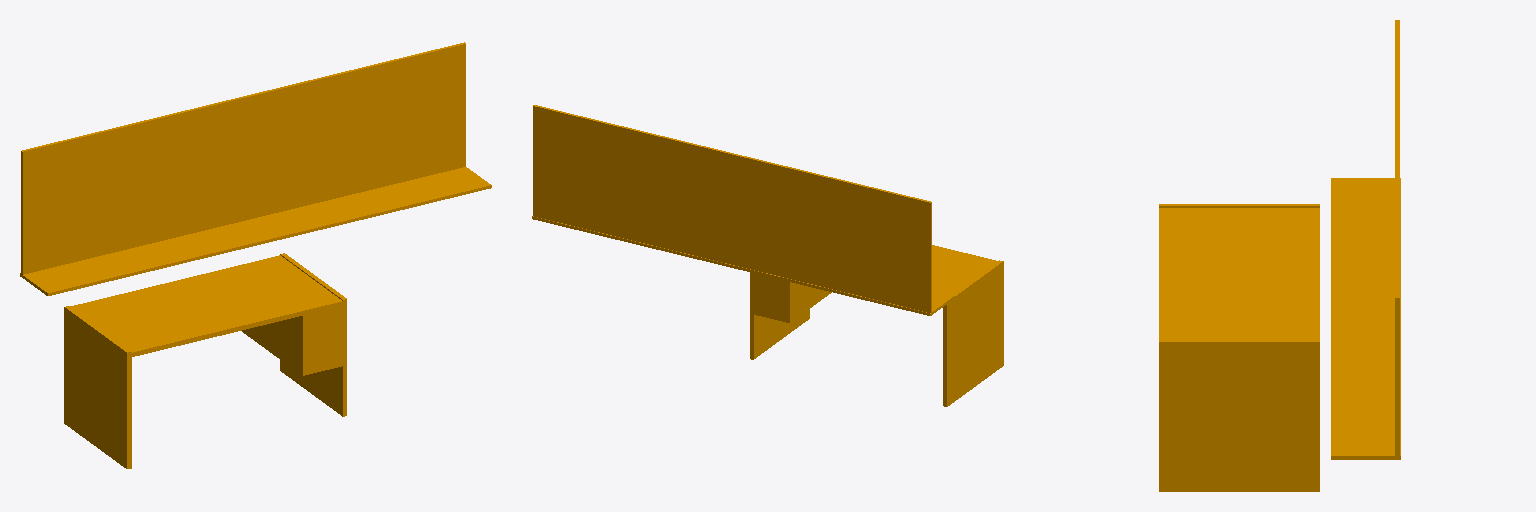
robot.urdf — ur5e:
<?xml version="1.0" ?>
<!-- =================================================================================== -->
<!-- |    This document was autogenerated by xacro from ur5e.xacro                     | -->
<!-- |    EDITING THIS FILE BY HAND IS NOT RECOMMENDED                                 | -->
<!-- =================================================================================== -->
<robot name="ur5e">
  <gazebo>
    <plugin filename="libgazebo_ros_control.so" name="ros_control">
      <!--robotNamespace>/</robotNamespace-->
      <!--robotSimType>gazebo_ros_control/DefaultRobotHWSim</robotSimType-->
    </plugin>
    <!--
    <plugin name="gazebo_ros_power_monitor_controller" filename="libgazebo_ros_power_monitor.so">
      <alwaysOn>true</alwaysOn>
      <updateRate>1.0</updateRate>
      <timeout>5</timeout>
      <powerStateTopic>power_state</powerStateTopic>
      <powerStateRate>10.0</powerStateRate>
      <fullChargeCapacity>87.78</fullChargeCapacity>     
      <dischargeRate>-474</dischargeRate>
      <chargeRate>525</chargeRate>
      <dischargeVoltage>15.52</dischargeVoltage>
      <chargeVoltage>16.41</chargeVoltage>
    </plugin>
-->
  </gazebo>
  <!-- Create the link of the hemisphere -->
  <link name="ur5_desk">
    <visual>
      <geometry>
        <mesh filename="./desk/desk.dae"/>
      </geometry>
    </visual>
  </link>
  <!--property name="shoulder_height" value="0.089159" /-->
  <!--property name="shoulder_offset" value="0.13585" /-->
  <!-- shoulder_offset - elbow_offset + wrist_1_length = 0.10915 -->
  <!--property name="upper_arm_length" value="0.42500" /-->
  <!--property name="elbow_offset" value="0.1197" /-->
  <!-- CAD measured -->
  <!--property name="forearm_length" value="0.39225" /-->
  <!--property name="wrist_1_length" value="0.093" /-->
  <!-- CAD measured -->
  <!--property name="wrist_2_length" value="0.09465" /-->
  <!-- In CAD this distance is 0.930, but in the spec it is 0.09465 -->
  <!--property name="wrist_3_length" value="0.0823" /-->
  <!-- manually measured -->
  <link name="ur5_base_link">
    <visual>
      <geometry>
        <mesh filename="./ur5e/meshes/visual/base.dae"/>
      </geometry>
      <material name="LightGrey">
        <color rgba="0.7 0.7 0.7 1.0"/>
      </material>
    </visual>
    <collision>
      <geometry>
        <mesh filename="./ur5e/meshes/collision/base.stl"/>
      </geometry>
    </collision>
    <inertial>
      <mass value="4.0"/>
      <origin rpy="0 0 0" xyz="0.0 0.0 0.0"/>
      <inertia ixx="0.00443333156" ixy="0.0" ixz="0.0" iyy="0.00443333156" iyz="0.0" izz="0.0072"/>
    </inertial>
  </link>
  <joint name="ur5_shoulder_pan_joint" type="revolute">
    <parent link="ur5_base_link"/>
    <child link="ur5_shoulder_link"/>
    <origin rpy="0.0 0.0 3.141592653589793" xyz="0.0 0.0 0.163"/>
    <axis xyz="0 0 1"/>
    <limit effort="150.0" lower="-6.283185307179586" upper="6.283185307179586" velocity="3.14"/>
    <dynamics damping="0.0" friction="0.0"/>
  </joint>
  <link name="ur5_shoulder_link">
    <visual>
      <geometry>
        <mesh filename="./ur5e/meshes/visual/shoulder.dae"/>
      </geometry>
      <material name="LightGrey">
        <color rgba="0.7 0.7 0.7 1.0"/>
      </material>
    </visual>
    <collision>
      <geometry>
        <mesh filename="./ur5e/meshes/collision/shoulder.stl"/>
      </geometry>
    </collision>
    <inertial>
      <mass value="3.7"/>
      <origin rpy="0 0 0" xyz="0.0 0.0 0.0"/>
      <inertia ixx="0.010267495893" ixy="0.0" ixz="0.0" iyy="0.010267495893" iyz="0.0" izz="0.00666"/>
    </inertial>
  </link>
  <joint name="ur5_shoulder_lift_joint" type="revolute">
    <parent link="ur5_shoulder_link"/>
    <child link="ur5_upper_arm_link"/>
    <origin rpy="0.0 1.5707963267948966 0.0" xyz="0.0 0.138 0.0"/>
    <axis xyz="0 1 0"/>
    <limit effort="150.0" lower="-6.283185307179586" upper="6.283185307179586" velocity="3.14"/>
    <dynamics damping="0.0" friction="0.0"/>
  </joint>
  <link name="ur5_upper_arm_link">
    <visual>
      <geometry>
        <mesh filename="./ur5e/meshes/visual/upperarm.dae"/>
      </geometry>
      <material name="LightGrey">
        <color rgba="0.7 0.7 0.7 1.0"/>
      </material>
    </visual>
    <collision>
      <geometry>
        <mesh filename="./ur5e/meshes/collision/upperarm.stl"/>
      </geometry>
    </collision>
    <inertial>
      <mass value="8.393"/>
      <origin rpy="0 0 0" xyz="0.0 0.0 0.2125"/>
      <inertia ixx="0.1338857818623325" ixy="0.0" ixz="0.0" iyy="0.1338857818623325" iyz="0.0" izz="0.0151074"/>
    </inertial>
  </link>
  <joint name="ur5_elbow_joint" type="revolute">
    <parent link="ur5_upper_arm_link"/>
    <child link="ur5_forearm_link"/>
    <origin rpy="0.0 0.0 0.0" xyz="0.0 -0.131 0.425"/>
    <axis xyz="0 1 0"/>
    <limit effort="150.0" lower="-3.141592653589793" upper="3.141592653589793" velocity="3.14"/>
    <dynamics damping="0.0" friction="0.0"/>
  </joint>
  <link name="ur5_forearm_link">
    <visual>
      <geometry>
        <mesh filename="./ur5e/meshes/visual/forearm.dae"/>
      </geometry>
      <material name="LightGrey">
        <color rgba="0.7 0.7 0.7 1.0"/>
      </material>
    </visual>
    <collision>
      <geometry>
        <mesh filename="./ur5e/meshes/collision/forearm.stl"/>
      </geometry>
    </collision>
    <inertial>
      <mass value="2.275"/>
      <origin rpy="0 0 0" xyz="0.0 0.0 0.196"/>
      <inertia ixx="0.031179620861480004" ixy="0.0" ixz="0.0" iyy="0.031179620861480004" iyz="0.0" izz="0.004095"/>
    </inertial>
  </link>
  <joint name="ur5_wrist_1_joint" type="revolute">
    <parent link="ur5_forearm_link"/>
    <child link="ur5_wrist_1_link"/>
    <origin rpy="0.0 1.5707963267948966 0.0" xyz="0.0 0.0 0.392"/>
    <axis xyz="0 1 0"/>
    <limit effort="28.0" lower="-6.283185307179586" upper="6.283185307179586" velocity="6.28"/>
    <dynamics damping="0.0" friction="0.0"/>
  </joint>
  <link name="ur5_wrist_1_link">
    <visual>
      <geometry>
        <mesh filename="./ur5e/meshes/visual/wrist1.dae"/>
      </geometry>
      <material name="LightGrey">
        <color rgba="0.7 0.7 0.7 1.0"/>
      </material>
    </visual>
    <collision>
      <geometry>
        <mesh filename="./ur5e/meshes/collision/wrist1.stl"/>
      </geometry>
    </collision>
    <inertial>
      <mass value="1.219"/>
      <origin rpy="0 0 0" xyz="0.0 0.127 0.0"/>
      <inertia ixx="0.0025598989760400002" ixy="0.0" ixz="0.0" iyy="0.0025598989760400002" iyz="0.0" izz="0.0021942"/>
    </inertial>
  </link>
  <joint name="ur5_wrist_2_joint" type="revolute">
    <parent link="ur5_wrist_1_link"/>
    <child link="ur5_wrist_2_link"/>
    <origin rpy="0.0 0.0 0.0" xyz="0.0 0.127 0.0"/>
    <axis xyz="0 0 1"/>
    <limit effort="28.0" lower="-6.283185307179586" upper="6.283185307179586" velocity="6.28"/>
    <dynamics damping="0.0" friction="0.0"/>
  </joint>
  <link name="ur5_wrist_2_link">
    <visual>
      <geometry>
        <mesh filename="./ur5e/meshes/visual/wrist2.dae"/>
      </geometry>
      <material name="LightGrey">
        <color rgba="0.7 0.7 0.7 1.0"/>
      </material>
    </visual>
    <collision>
      <geometry>
        <mesh filename="./ur5e/meshes/collision/wrist2.stl"/>
      </geometry>
    </collision>
    <inertial>
      <mass value="1.219"/>
      <origin rpy="0 0 0" xyz="0.0 0.0 0.1"/>
      <inertia ixx="0.0025598989760400002" ixy="0.0" ixz="0.0" iyy="0.0025598989760400002" iyz="0.0" izz="0.0021942"/>
    </inertial>
  </link>
  <joint name="ur5_wrist_3_joint" type="revolute">
    <parent link="ur5_wrist_2_link"/>
    <child link="ur5_wrist_3_link"/>
    <origin rpy="0.0 0.0 0.0" xyz="0.0 0.0 0.1"/>
    <axis xyz="0 1 0"/>
    <limit effort="28.0" lower="-6.283185307179586" upper="6.283185307179586" velocity="6.28"/>
    <dynamics damping="0.0" friction="0.0"/>
  </joint>
  <link name="ur5_wrist_3_link">
    <visual>
      <geometry>
        <mesh filename="./ur5e/meshes/visual/wrist3.dae"/>
      </geometry>
      <material name="LightGrey">
        <color rgba="0.7 0.7 0.7 1.0"/>
      </material>
    </visual>
    <collision>
      <geometry>
        <mesh filename="./ur5e/meshes/collision/wrist3.stl"/>
      </geometry>
    </collision>
    <inertial>
      <mass value="0.1879"/>
      <origin rpy="1.5707963267948966 0 0" xyz="0.0 0.0771 0.0"/>
      <inertia ixx="9.890410052167731e-05" ixy="0.0" ixz="0.0" iyy="9.890410052167731e-05" iyz="0.0" izz="0.0001321171875"/>
    </inertial>
  </link>
  <joint name="ur5_ee_fixed_joint" type="fixed">
    <parent link="ur5_wrist_3_link"/>
    <child link="ur5_ee_link"/>
    <origin rpy="0.0 0.0 1.5707963267948966" xyz="0.0 0.1 0.0"/>
  </joint>
  <link name="ur5_ee_link">
    <collision>
      <geometry>
        <box size="0.01 0.01 0.01"/>
      </geometry>
      <origin rpy="0 0 0" xyz="-0.01 0 0"/>
    </collision>
  </link>
  <transmission name="ur5_shoulder_pan_trans">
    <type>transmission_interface/SimpleTransmission</type>
    <joint name="ur5_shoulder_pan_joint">
      <hardwareInterface>hardware_interface/PositionJointInterface</hardwareInterface>
    </joint>
    <actuator name="ur5_shoulder_pan_motor">
      <mechanicalReduction>1</mechanicalReduction>
    </actuator>
  </transmission>
  <transmission name="ur5_shoulder_lift_trans">
    <type>transmission_interface/SimpleTransmission</type>
    <joint name="ur5_shoulder_lift_joint">
      <hardwareInterface>hardware_interface/PositionJointInterface</hardwareInterface>
    </joint>
    <actuator name="ur5_shoulder_lift_motor">
      <mechanicalReduction>1</mechanicalReduction>
    </actuator>
  </transmission>
  <transmission name="ur5_elbow_trans">
    <type>transmission_interface/SimpleTransmission</type>
    <joint name="ur5_elbow_joint">
      <hardwareInterface>hardware_interface/PositionJointInterface</hardwareInterface>
    </joint>
    <actuator name="ur5_elbow_motor">
      <mechanicalReduction>1</mechanicalReduction>
    </actuator>
  </transmission>
  <transmission name="ur5_wrist_1_trans">
    <type>transmission_interface/SimpleTransmission</type>
    <joint name="ur5_wrist_1_joint">
      <hardwareInterface>hardware_interface/PositionJointInterface</hardwareInterface>
    </joint>
    <actuator name="ur5_wrist_1_motor">
      <mechanicalReduction>1</mechanicalReduction>
    </actuator>
  </transmission>
  <transmission name="ur5_wrist_2_trans">
    <type>transmission_interface/SimpleTransmission</type>
    <joint name="ur5_wrist_2_joint">
      <hardwareInterface>hardware_interface/PositionJointInterface</hardwareInterface>
    </joint>
    <actuator name="ur5_wrist_2_motor">
      <mechanicalReduction>1</mechanicalReduction>
    </actuator>
  </transmission>
  <transmission name="ur5_wrist_3_trans">
    <type>transmission_interface/SimpleTransmission</type>
    <joint name="ur5_wrist_3_joint">
      <hardwareInterface>hardware_interface/PositionJointInterface</hardwareInterface>
    </joint>
    <actuator name="ur5_wrist_3_motor">
      <mechanicalReduction>1</mechanicalReduction>
    </actuator>
  </transmission>
  <gazebo reference="ur5_shoulder_link">
    <selfCollide>true</selfCollide>
  </gazebo>
  <gazebo reference="ur5_upper_arm_link">
    <selfCollide>true</selfCollide>
  </gazebo>
  <gazebo reference="ur5_forearm_link">
    <selfCollide>true</selfCollide>
  </gazebo>
  <gazebo reference="ur5_wrist_1_link">
    <selfCollide>true</selfCollide>
  </gazebo>
  <gazebo reference="ur5_wrist_3_link">
    <selfCollide>true</selfCollide>
  </gazebo>
  <gazebo reference="ur5_wrist_2_link">
    <selfCollide>true</selfCollide>
  </gazebo>
  <gazebo reference="ur5_ee_link">
    <selfCollide>true</selfCollide>
  </gazebo>
  <!-- ROS base_link to UR 'Base' Coordinates transform -->
  <link name="ur5_base"/>
  <joint name="ur5_base_link-base_fixed_joint" type="fixed">
    <!-- NOTE: this rotation is only needed as long as base_link itself is
                 not corrected wrt the real robot (ie: rotated over 180
                 degrees)
      -->
    <origin rpy="0 0 -3.141592653589793" xyz="0 0 0"/>
    <parent link="ur5_base_link"/>
    <child link="ur5_base"/>
  </joint>
  <!-- Frame coincident with all-zeros TCP on UR controller -->
  <link name="ur5_tool0"/>
  <joint name="ur5_wrist_3_link-tool0_fixed_joint" type="fixed">
    <origin rpy="-1.5707963267948966 0 0" xyz="0 0.1 0"/>
    <parent link="ur5_wrist_3_link"/>
    <child link="ur5_tool0"/>
  </joint>
  <link name="world"/>
  <joint name="world_joint" type="fixed">
    <parent link="world"/>
    <child link="ur5_desk"/>
    <origin rpy="0.0 0.0 0.0" xyz="0.0 0.0 0.0"/>
  </joint>
  <joint name="ur5_desk_to_robot" type="fixed">
    <parent link="ur5_desk"/>
    <child link="ur5_base_link"/>
    <origin rpy="0.0 0.0 0.0" xyz="0.0 0.0 0.0"/>
  </joint>
</robot>

--- Render facts (derived) ---
The picture shows the robot from 3 angles, left to right: view 1: azimuth 30°, elevation 25°; view 2: azimuth 150°, elevation 25°; view 3: azimuth 270°, elevation 25°; orthographic projection.
Robot: ur5e — 12 links, 11 joints (6 revolute, 5 fixed); root link world; default pose: every joint at zero.
Visible links, largest first — view 1: ur5_desk; view 2: ur5_desk; view 3: ur5_desk.
Link boxes in pixels (x1=…): ur5_desk: x1=20, y1=42, x2=491, y2=468; ur5_desk: x1=532, y1=105, x2=1003, y2=406; ur5_desk: x1=1159, y1=20, x2=1400, y2=491.
Size in the robot's own frame: 3 by 1.1 by 1.64 metres.
Meshes: 8 distinct files referenced, 1 mesh visuals loaded (1 Collada DAE); not drawn: 7 (reference not matched to a file when rendering).